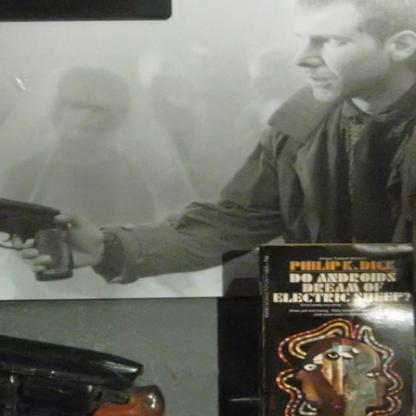gun: (0, 316, 197, 415), (0, 186, 81, 282)
